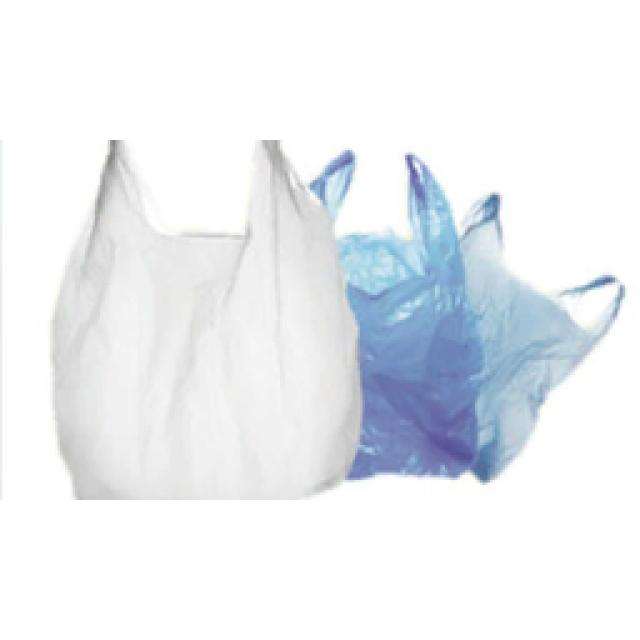plastic: (52, 140, 622, 498)
